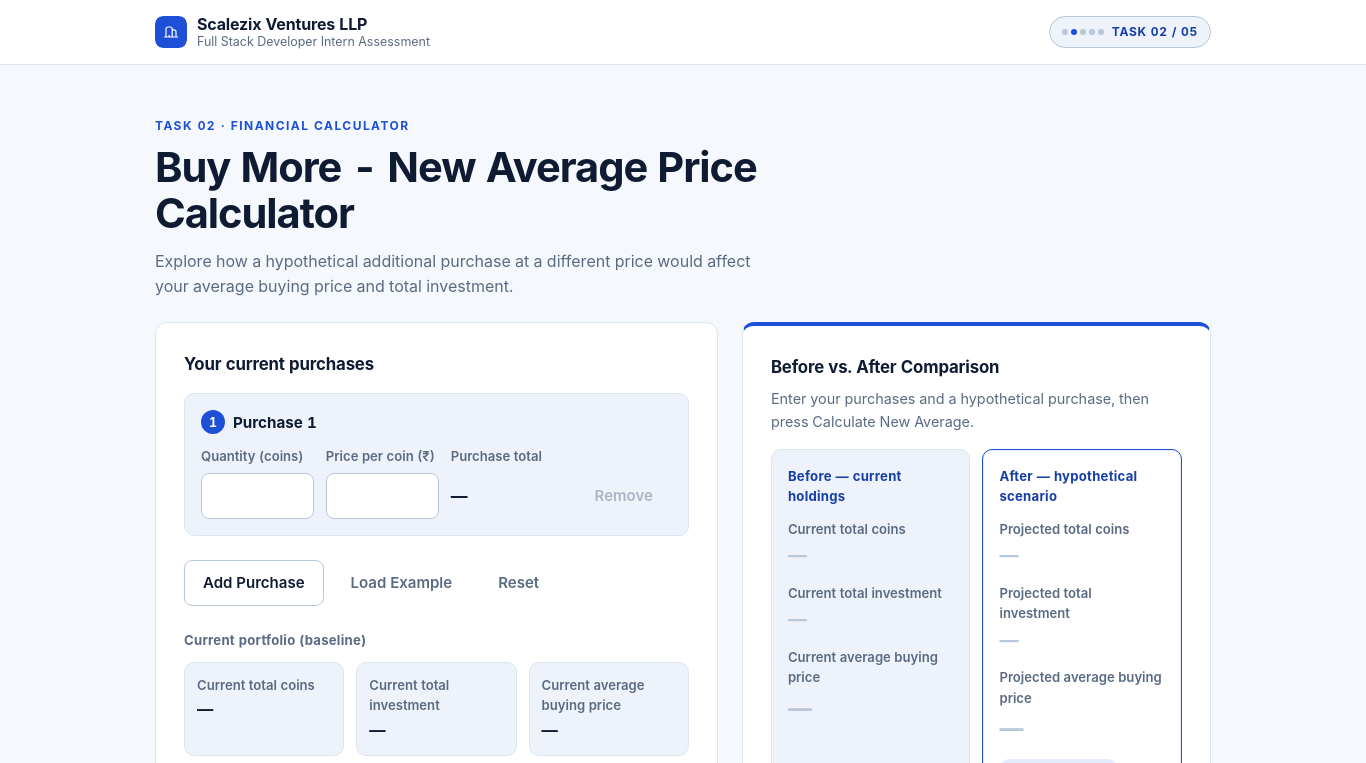
it: rows, reset and example › asks before Load Example replaces typed values
The image size is (1366, 763).
Type "7" into the field labelled "Quantity (coins)" at (257, 496), box [201,473,314,519]
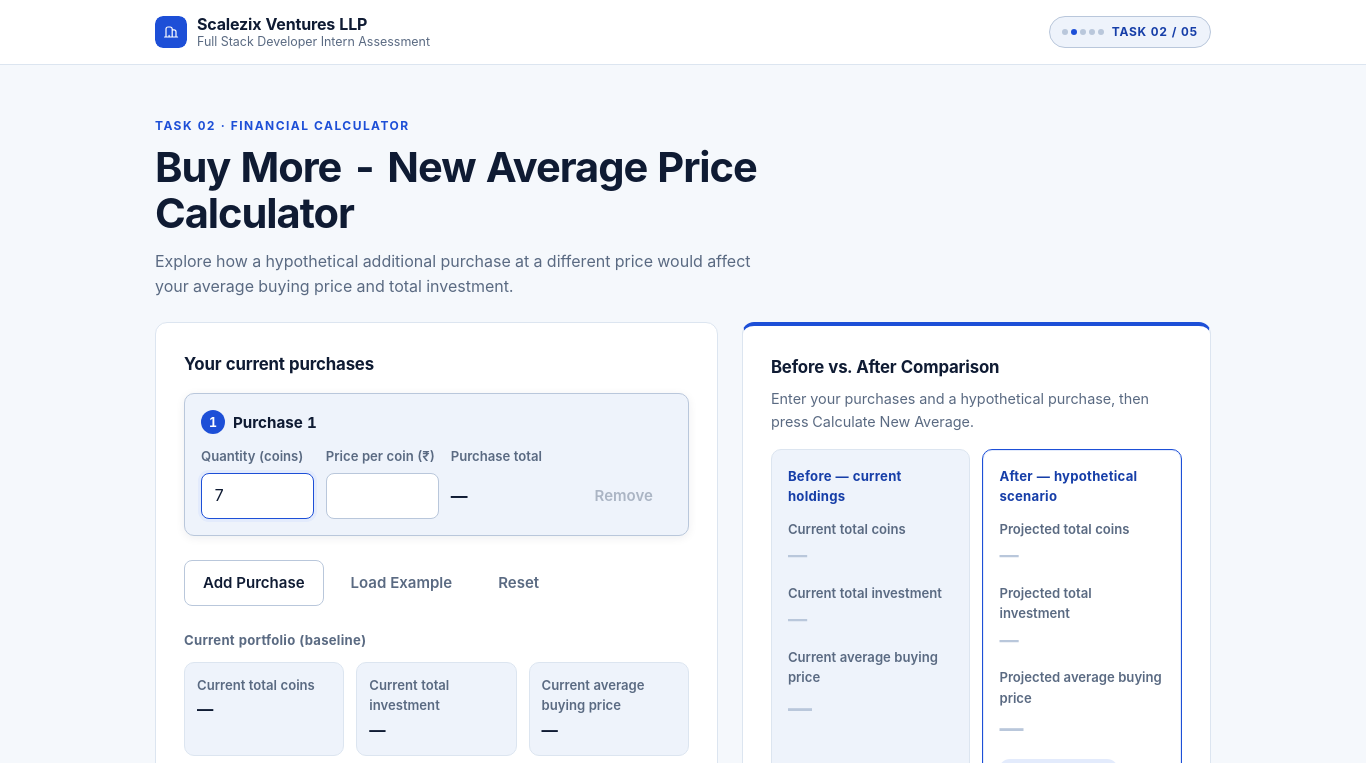
Click the button "Load Example" at (401, 583), box [332,560,471,606]
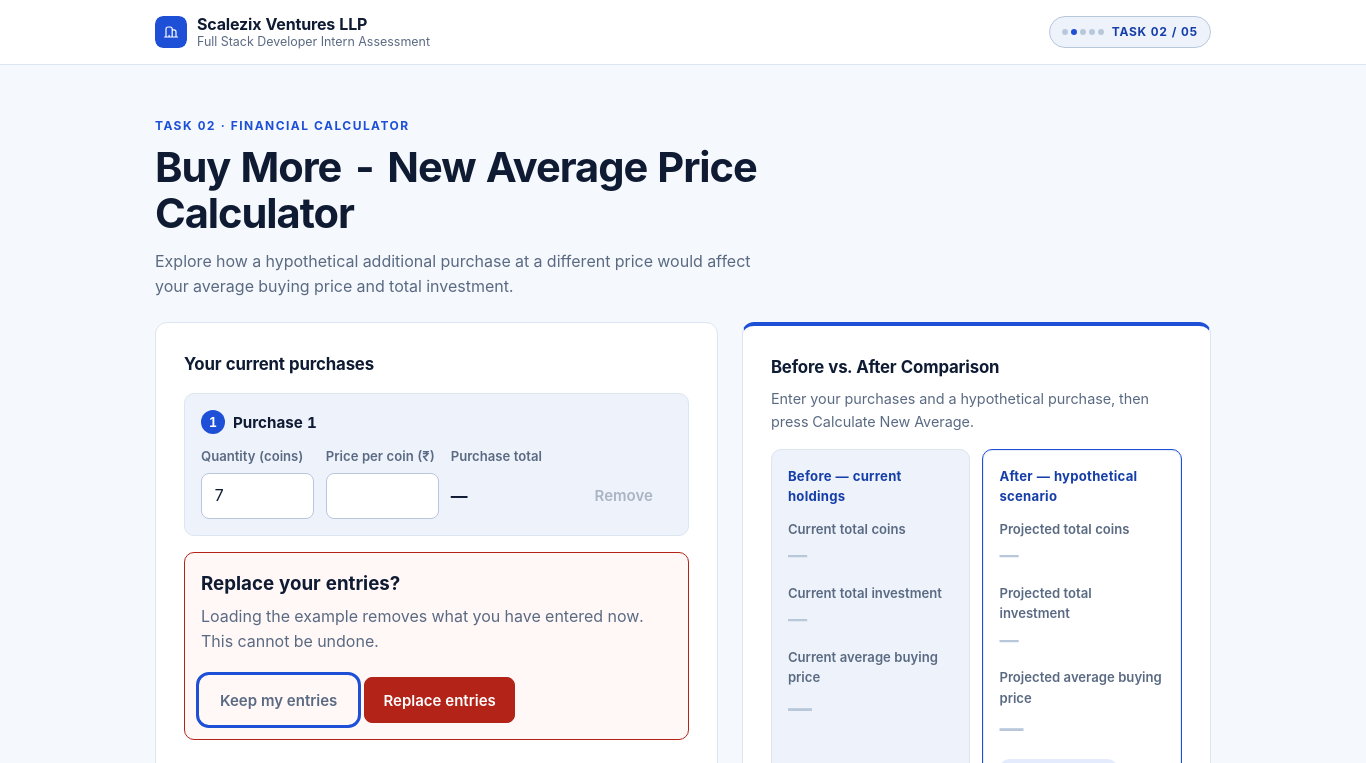
Click the button "Keep my entries" at (279, 700), box [201,677,356,723]
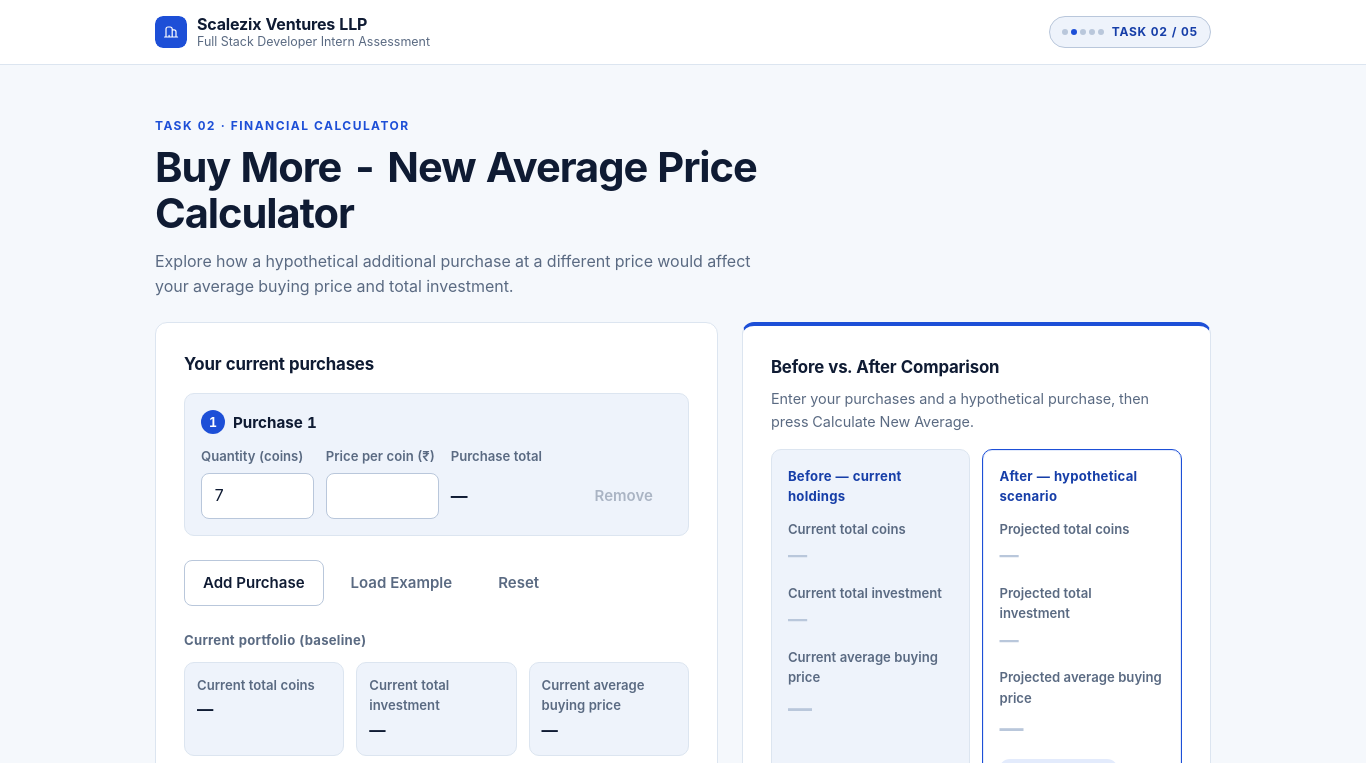
Click the button "Load Example" at (401, 583), box [332,560,471,606]
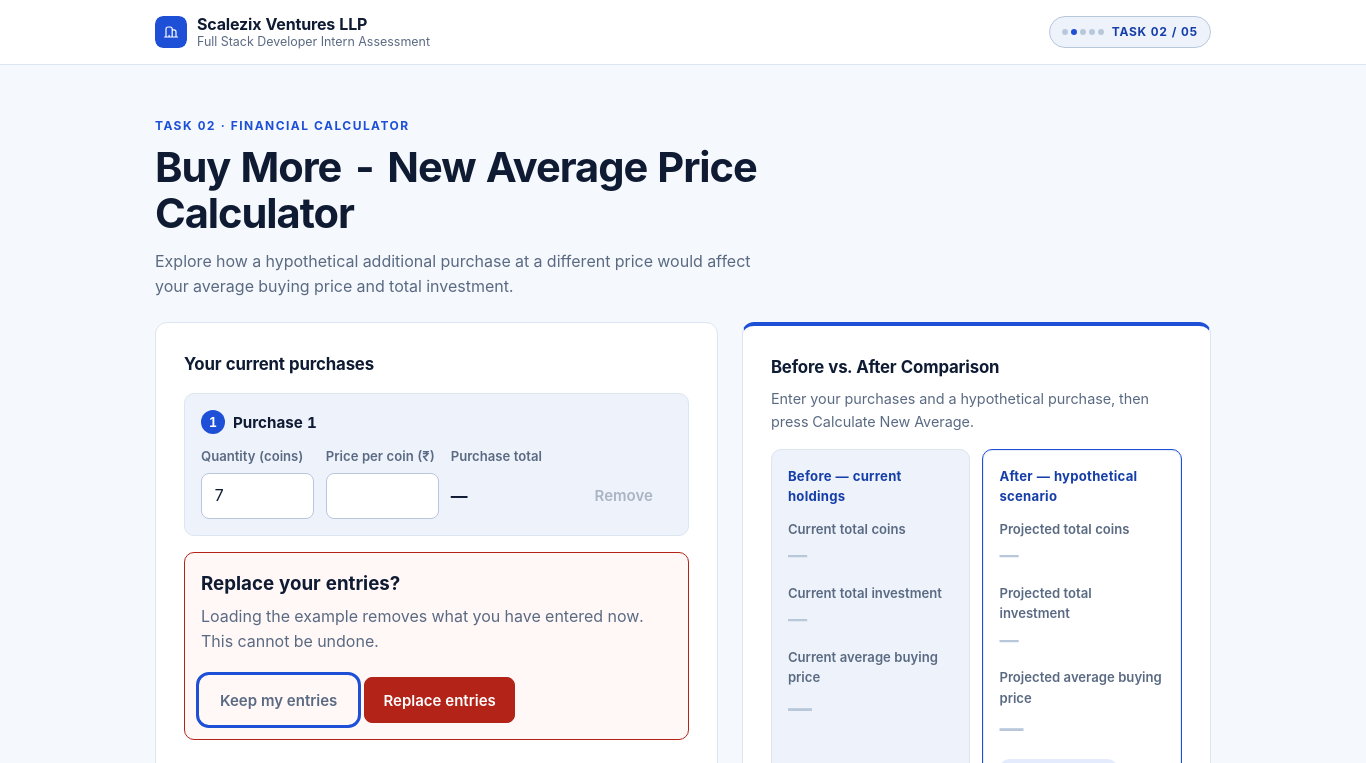
Click the button "Replace entries" at (440, 700), box [364,677,515,723]
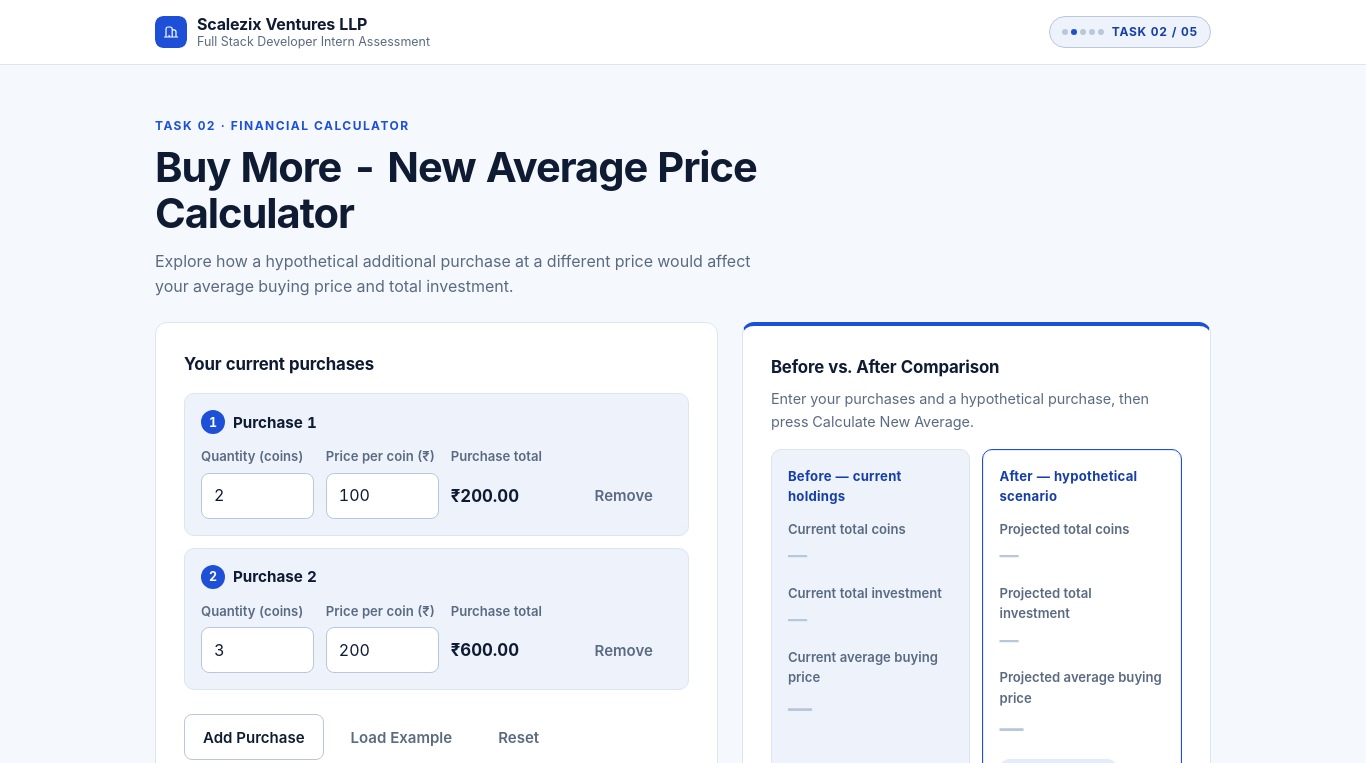
Now the number of fields labelled "Quantity (coins)" is 2, box [201,473,314,519]; [201,627,314,673]
